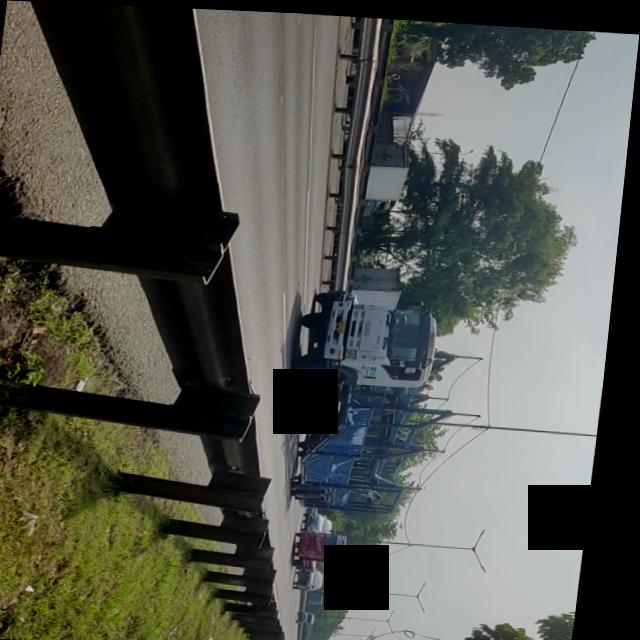Golongan IV: (278, 293, 467, 512)
